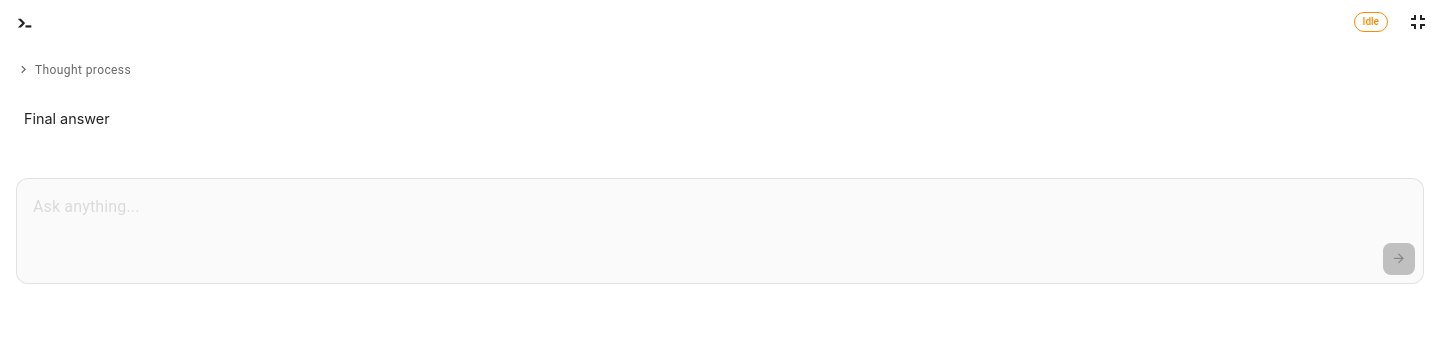
Scenario: InvestigationChat.vue › renders collapsible thought component
Expected: the text "Deep thought content" is not shown
Click to expand
Click the button with class "cursor-pointer": (74,70) x1=16 y1=62 x2=131 y2=77
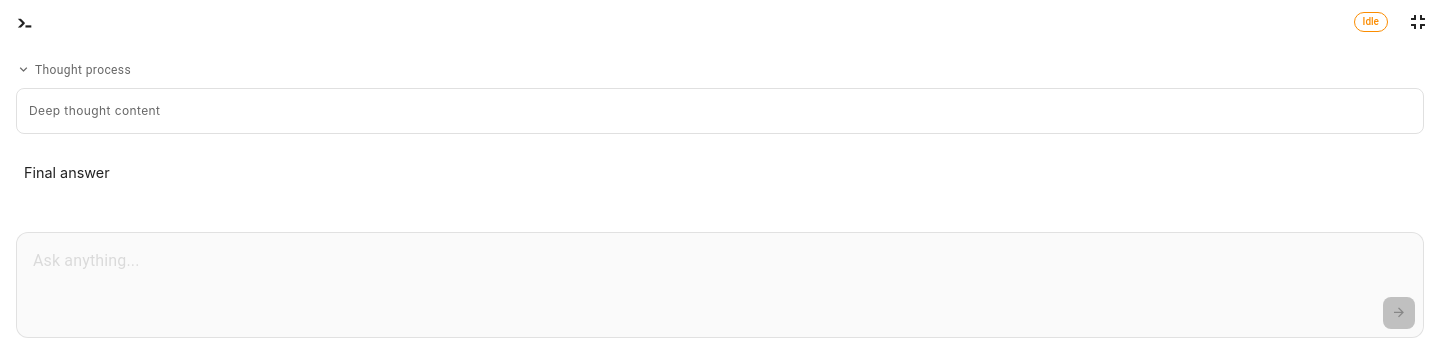
Expected: the text "Deep thought content" is shown, x1=16 y1=88 x2=1424 y2=134
